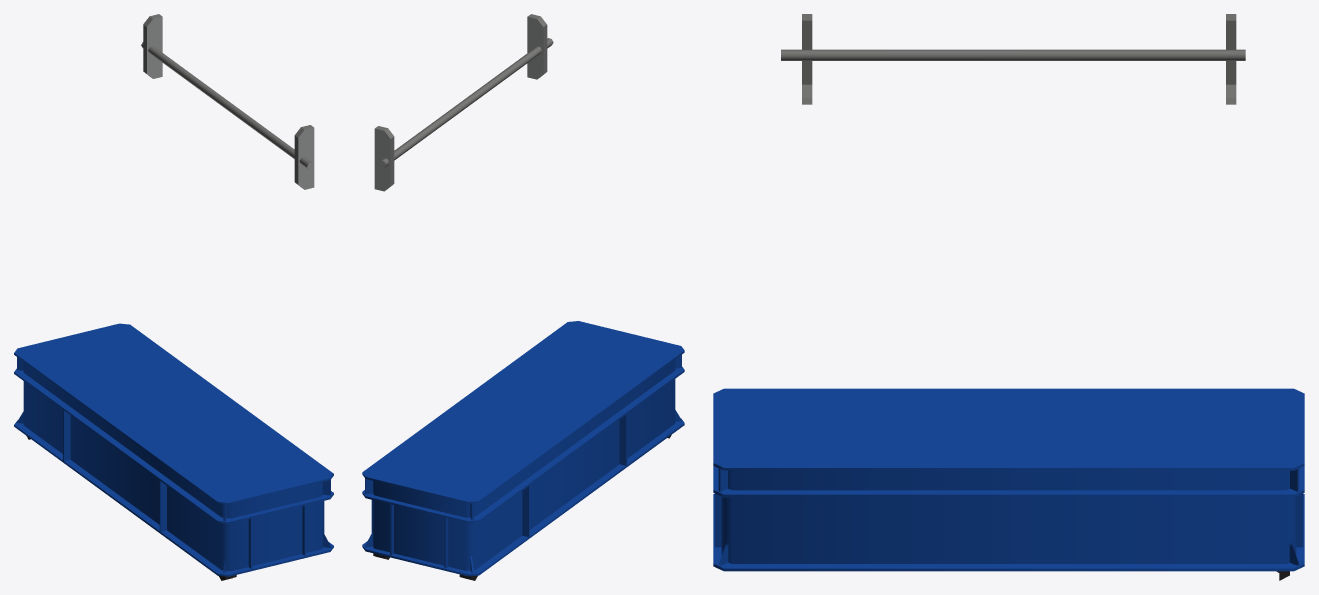
File: M_huanxieyi04.FBX
3 renders of one model, left to right at view 1: azimuth 30°, elevation 25°; view 2: azimuth 150°, elevation 25°; view 3: azimuth 270°, elevation 25°, orthographic. The views are drawn at different scales.
Parts seen in each view (by area): view 1: M_huanxieyi04_01, M_huanxieyi04_02; view 2: M_huanxieyi04_01, M_huanxieyi04_02; view 3: M_huanxieyi04_01, M_huanxieyi04_02.
Boxes of the visible parts, x1,y1,x2,y2 form: M_huanxieyi04_01: (14, 323, 333, 580); M_huanxieyi04_02: (141, 14, 314, 189); M_huanxieyi04_01: (362, 321, 684, 580); M_huanxieyi04_02: (374, 14, 553, 191); M_huanxieyi04_01: (713, 388, 1304, 580); M_huanxieyi04_02: (781, 14, 1245, 104).
Size of the model in its own units: 0.7886 by 2.48 by 2.32.
